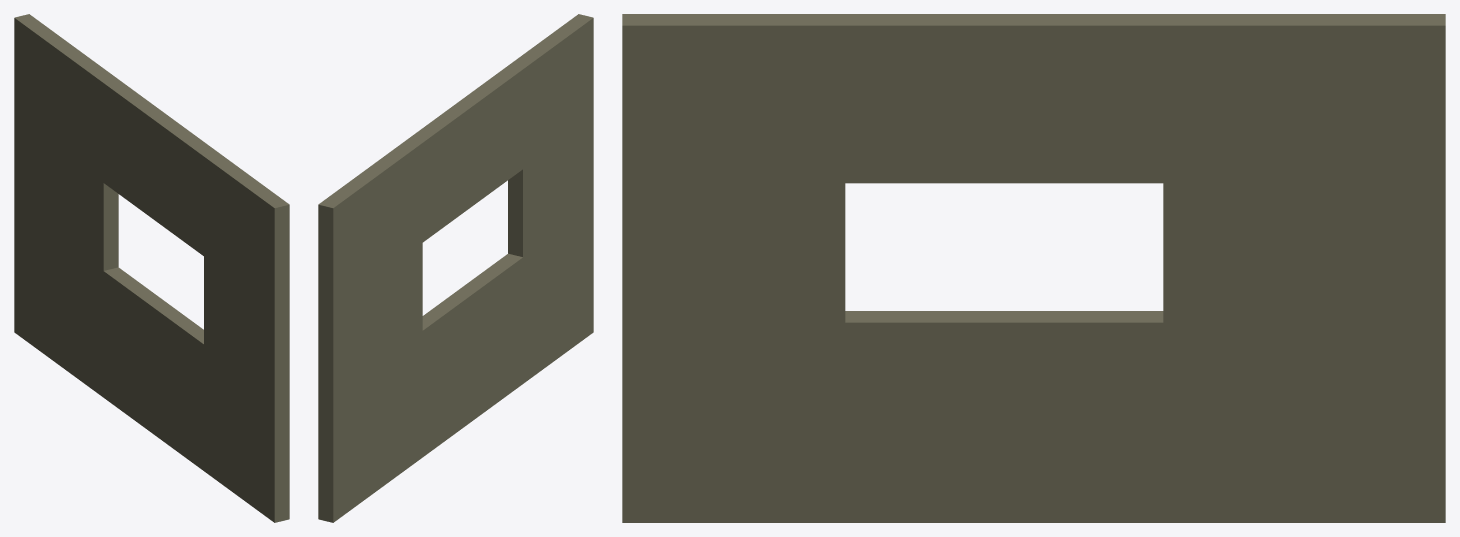
Rendered from wallWindow1.fbx.
The picture shows the model from 3 angles, left to right: view 1: azimuth 30°, elevation 25°; view 2: azimuth 150°, elevation 25°; view 3: azimuth 270°, elevation 25°; orthographic projection. The views are drawn at different scales.
Visible parts, largest first — view 1: wallWindow1; view 2: wallWindow1; view 3: wallWindow1.
Boxes of the visible parts, box(x1,y1,x2,y2) form: wallWindow1: box(14, 14, 289, 522); wallWindow1: box(318, 14, 593, 522); wallWindow1: box(622, 14, 1445, 522).
Bounding box in the file's own units: 6 × 120 × 180.
